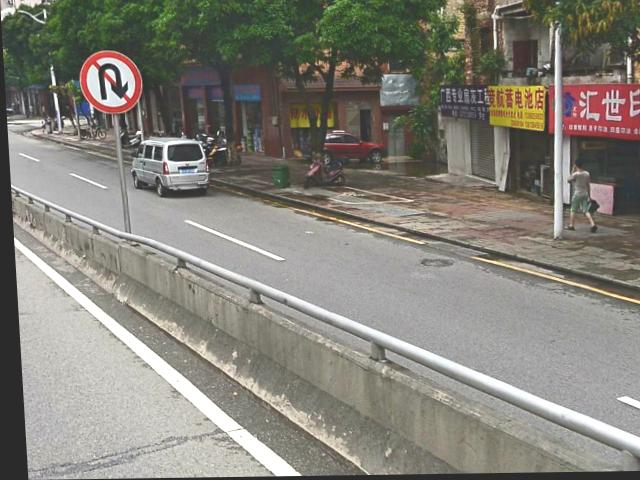not_u_turn_right: (73, 49, 153, 118)
